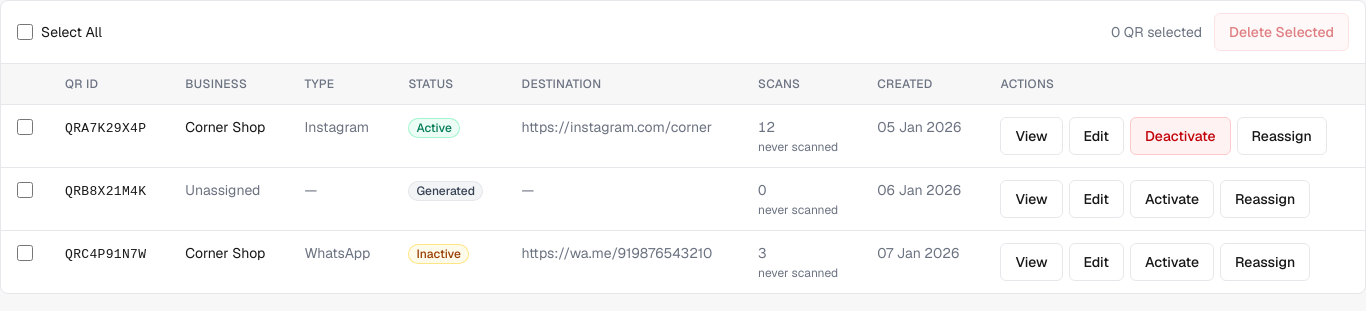
Test case: selecting QR codes › deselects one row again
Step 1. Click the checkbox named "Select all QR codes on this page" → (25, 32), box [17, 24, 33, 40]
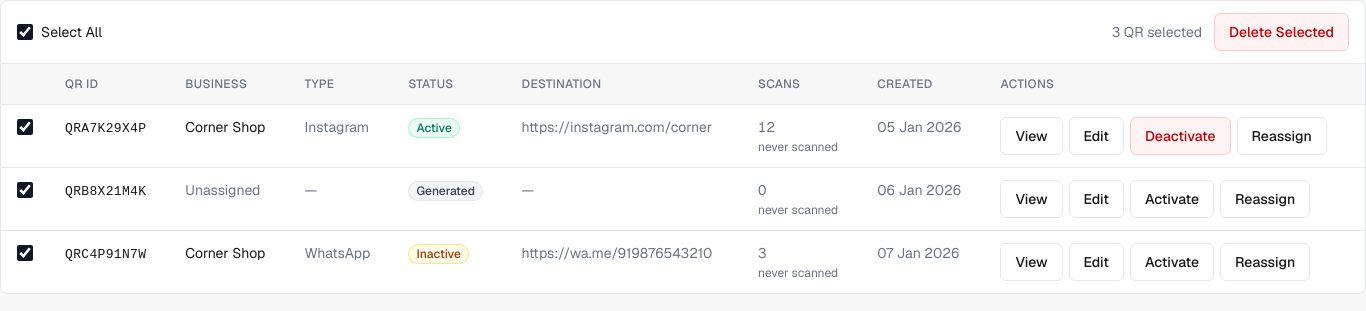
Step 2. Click the checkbox named "Select QRA7K29X4P" → (25, 127), box [17, 119, 33, 135]
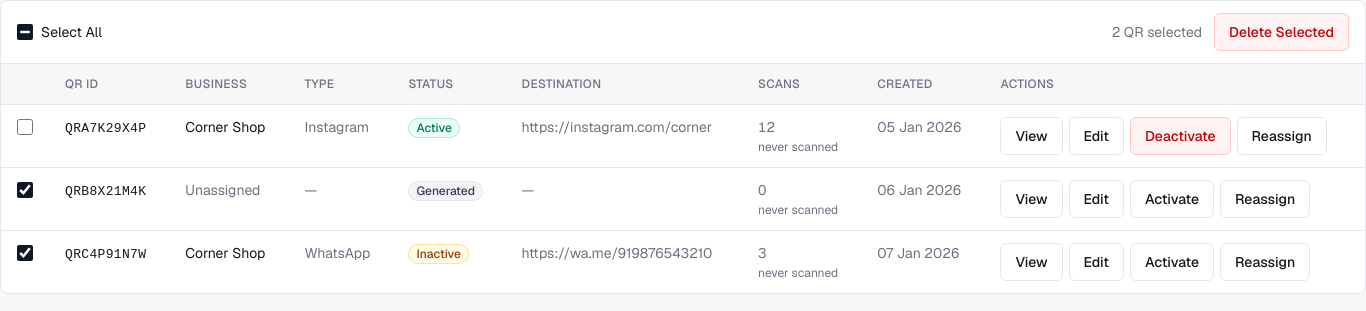
Check: the text "2 QR selected" is shown, box [1112, 22, 1202, 42]
